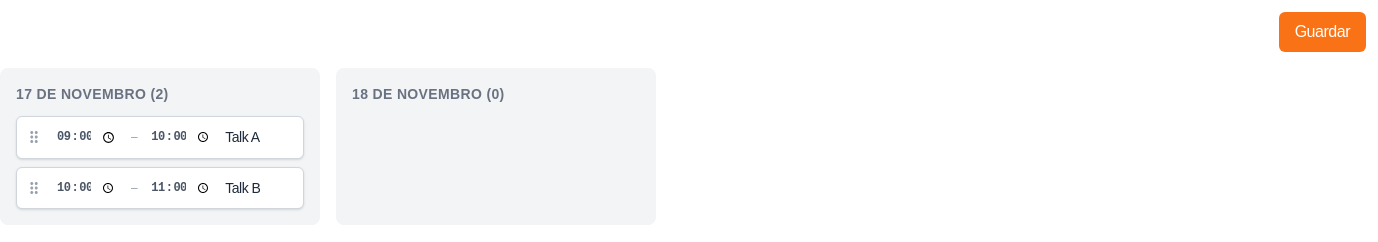
it: editing a row's time re-validates live and disables save on an overlap
# a's endTime (index 1: 09:00 start, 10:00 end) pushed past b's 10:00 start.
Replace the text in the 2nd time field with "10:30" at [181, 137], box [145, 125, 217, 150]
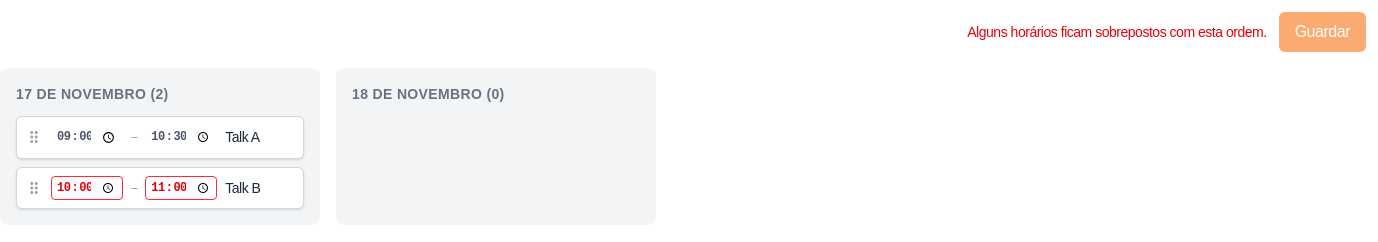
Expected: the text "Alguns horários ficam sobrepostos com esta ordem." is shown, [967, 22, 1267, 42]
Expected: the button "Guardar" is disabled, [1279, 12, 1366, 52]
